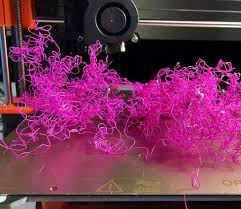fail: (8, 19, 131, 161), (127, 57, 240, 170), (178, 169, 209, 208)
